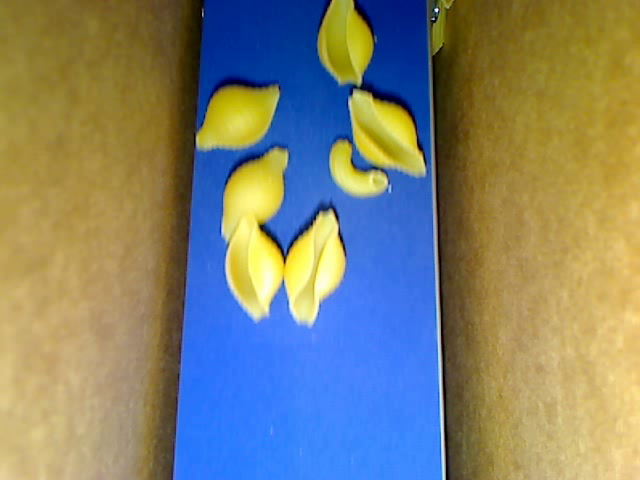elbow: (329, 137, 388, 198)
penne: (427, 1, 448, 60), (441, 1, 458, 13)
shell: (218, 145, 292, 244), (283, 207, 344, 327), (347, 88, 426, 180), (222, 211, 283, 326), (194, 80, 279, 151), (318, 1, 375, 86), (318, 1, 319, 2)
